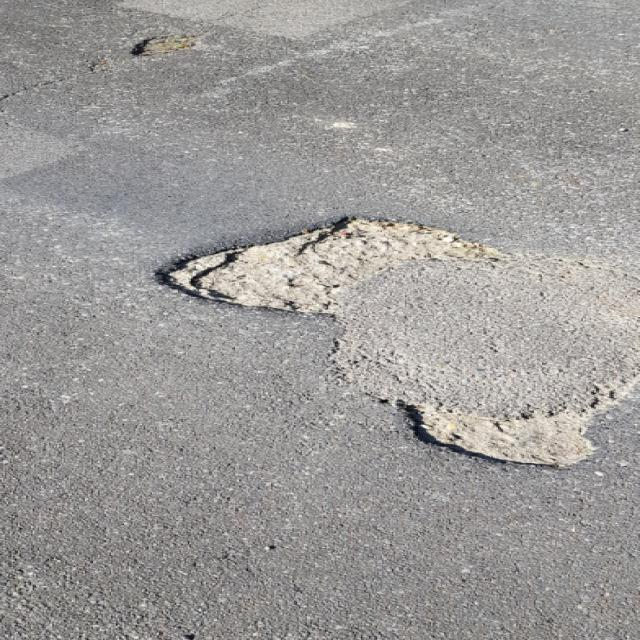pothole: (155, 213, 513, 317), (382, 396, 624, 470)
